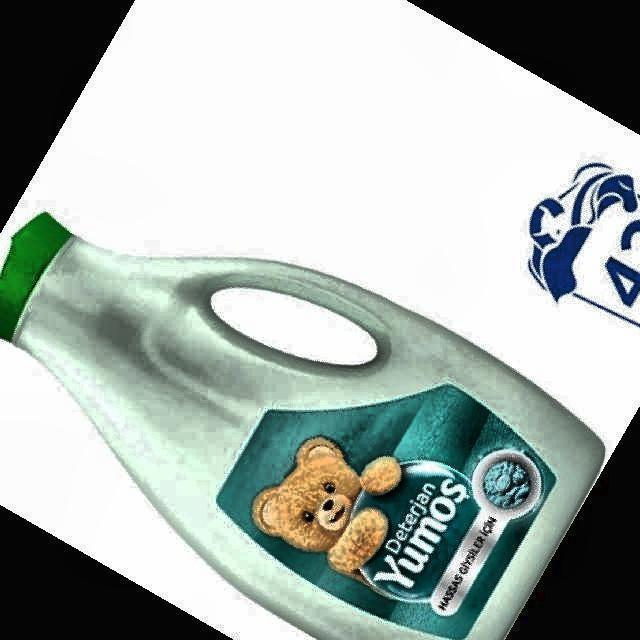plastic: (0, 214, 602, 640)
